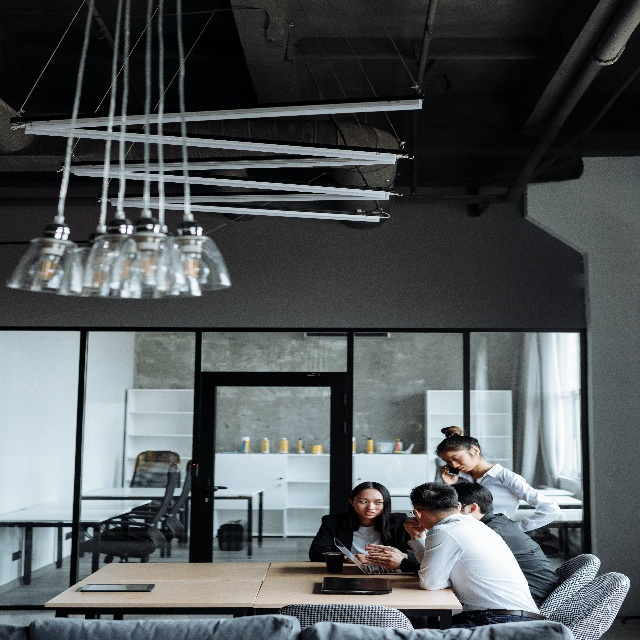Sin_guantes: (364, 548, 402, 570), (364, 541, 402, 558), (403, 516, 427, 539), (440, 462, 461, 485), (354, 553, 371, 563)
